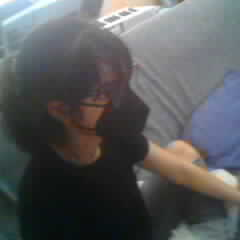with_mask: (69, 58, 149, 139)
